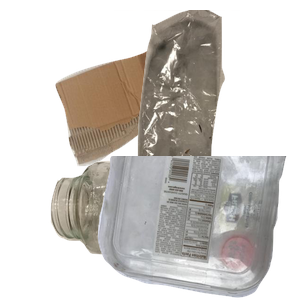cardboard: (53, 45, 221, 204)
glass: (48, 156, 260, 300)
plastic: (95, 156, 300, 300)
trash: (114, 10, 300, 190)
